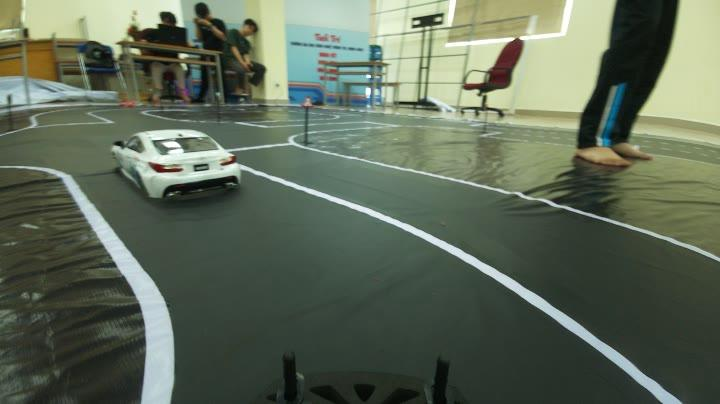car: (98, 122, 244, 208)
